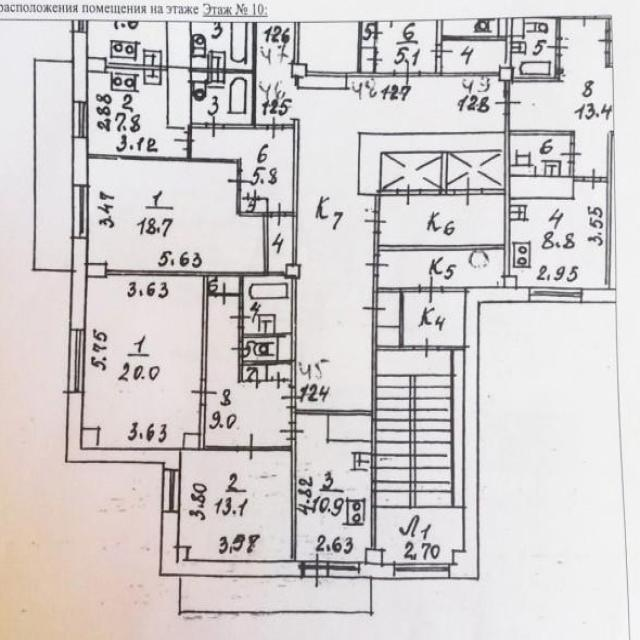Bathrooms: (193, 73, 251, 123), (193, 21, 251, 68), (245, 280, 290, 331), (513, 18, 553, 75), (510, 137, 569, 175), (244, 338, 290, 358), (443, 19, 497, 34), (244, 365, 290, 379)
Corridors: (257, 22, 504, 409), (510, 21, 613, 175), (205, 298, 288, 445), (193, 129, 291, 210), (36, 61, 70, 270), (182, 579, 370, 612), (382, 197, 504, 243), (380, 252, 503, 286), (404, 293, 464, 345), (301, 23, 356, 71), (379, 22, 434, 69), (444, 42, 504, 71), (269, 219, 291, 269), (379, 294, 396, 324), (210, 278, 238, 291), (362, 22, 375, 44), (362, 48, 373, 72), (243, 201, 265, 210)
Doors: (301, 550, 327, 589), (392, 58, 422, 87), (455, 175, 483, 206), (237, 432, 265, 461), (418, 275, 444, 306), (493, 90, 522, 116), (190, 380, 218, 406), (362, 293, 387, 321), (364, 253, 391, 277), (397, 182, 421, 207), (363, 211, 388, 234), (227, 170, 254, 191), (281, 386, 304, 410), (414, 337, 439, 359), (205, 113, 225, 139), (214, 280, 233, 307), (279, 421, 305, 440), (229, 306, 251, 328), (560, 143, 583, 164), (545, 37, 569, 57), (174, 131, 199, 150), (266, 113, 284, 139), (582, 167, 601, 191), (270, 200, 286, 227), (596, 31, 614, 52), (429, 44, 455, 58), (365, 48, 383, 68), (230, 343, 250, 360), (574, 14, 596, 29), (271, 370, 286, 389), (247, 187, 261, 207), (369, 26, 385, 42)
LBwalls: (447, 287, 529, 581), (358, 131, 503, 194), (160, 513, 302, 576), (64, 394, 182, 468), (68, 240, 88, 329), (509, 175, 574, 199), (167, 70, 188, 129), (327, 415, 371, 442), (166, 20, 190, 66), (72, 33, 88, 101), (71, 137, 89, 186), (297, 77, 347, 90), (582, 287, 617, 304), (361, 563, 394, 579), (82, 427, 100, 448), (365, 548, 384, 566), (86, 264, 108, 279), (181, 432, 199, 449), (86, 58, 106, 72), (285, 263, 300, 279), (291, 63, 307, 77), (177, 545, 193, 559), (499, 67, 513, 82), (504, 276, 518, 290), (443, 286, 464, 293)
Offices: (82, 278, 202, 448), (88, 159, 263, 271), (182, 451, 290, 560), (297, 417, 370, 561), (510, 182, 605, 287), (89, 67, 186, 155), (89, 20, 167, 64)
Stairs: (376, 351, 464, 563)
Walls: (290, 277, 418, 548), (107, 190, 285, 381), (372, 115, 575, 277), (187, 21, 268, 132), (237, 279, 297, 386), (306, 21, 394, 78), (436, 17, 513, 67), (265, 440, 296, 561), (89, 150, 242, 171), (284, 117, 300, 263), (600, 131, 613, 288), (198, 406, 237, 452), (420, 152, 454, 197), (421, 58, 499, 77), (513, 56, 561, 83), (514, 15, 575, 36), (106, 61, 188, 71), (238, 327, 292, 342), (374, 189, 396, 212), (596, 14, 613, 31), (294, 22, 299, 62), (439, 345, 465, 351), (258, 197, 270, 208), (605, 52, 613, 67), (504, 80, 511, 90), (573, 175, 582, 182), (570, 162, 574, 177), (241, 196, 247, 201)
Windows: (68, 327, 85, 393), (528, 286, 582, 304), (394, 562, 450, 579), (161, 468, 181, 513), (73, 185, 88, 240), (327, 560, 360, 578), (72, 101, 88, 138), (73, 18, 88, 33)
